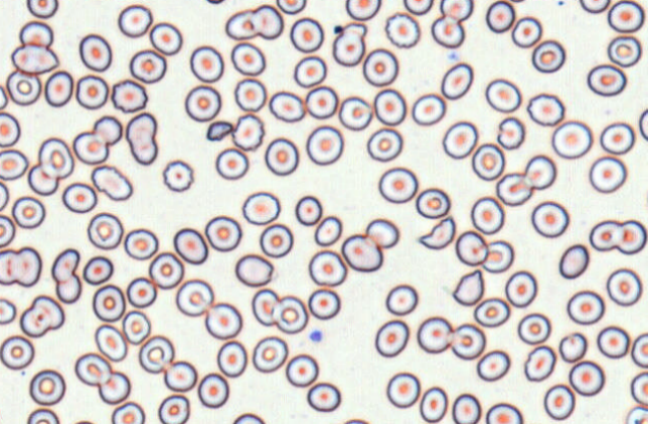PLT: (309, 329, 323, 344), (332, 24, 344, 34)
RBC: (19, 294, 64, 337), (125, 112, 158, 165), (1, 246, 42, 287), (341, 233, 382, 272), (551, 120, 592, 159), (37, 136, 74, 179), (90, 164, 132, 201), (305, 125, 343, 165), (11, 43, 58, 75), (332, 22, 366, 66), (175, 278, 214, 316), (588, 155, 627, 193), (378, 166, 418, 203), (531, 200, 569, 238), (271, 295, 308, 334), (308, 249, 347, 286), (204, 302, 242, 339), (184, 84, 221, 122), (251, 335, 288, 373), (138, 334, 174, 373), (606, 267, 642, 306), (362, 47, 398, 86), (442, 120, 478, 159), (416, 316, 453, 353), (28, 368, 65, 405), (86, 212, 123, 249), (148, 251, 184, 289), (566, 289, 604, 325), (204, 215, 242, 251), (264, 136, 299, 175), (234, 253, 274, 287), (568, 360, 605, 396), (384, 11, 420, 48), (374, 319, 409, 357), (241, 191, 280, 225), (78, 33, 112, 72), (586, 63, 626, 96), (485, 77, 521, 113), (72, 130, 109, 165), (450, 322, 485, 359), (110, 78, 147, 113), (173, 227, 208, 264), (129, 48, 166, 83), (189, 45, 224, 82), (366, 127, 403, 162), (74, 352, 112, 386), (495, 172, 533, 206), (470, 196, 504, 234), (471, 142, 505, 180), (526, 92, 564, 126), (92, 283, 125, 322), (6, 69, 41, 105), (386, 371, 420, 408), (94, 323, 127, 361), (231, 113, 264, 151), (440, 62, 473, 100), (373, 88, 406, 126), (289, 17, 324, 52), (599, 121, 635, 155), (523, 345, 556, 382), (504, 270, 537, 307), (230, 42, 265, 76), (117, 3, 152, 37), (411, 92, 446, 126), (259, 223, 293, 258), (338, 95, 372, 130), (523, 154, 556, 190), (455, 230, 488, 266), (1, 334, 34, 370), (543, 383, 575, 420), (268, 90, 305, 122), (607, 1, 644, 33), (285, 353, 319, 387), (531, 39, 565, 73), (75, 74, 108, 109), (123, 227, 158, 260), (61, 181, 97, 213), (197, 372, 229, 408), (216, 340, 247, 377), (97, 370, 130, 404), (163, 359, 197, 392), (517, 312, 551, 345), (431, 14, 464, 48), (11, 195, 45, 228), (293, 55, 327, 88), (149, 21, 182, 55), (305, 85, 338, 119), (215, 147, 249, 180), (233, 78, 266, 112), (251, 4, 283, 39), (415, 187, 450, 219), (558, 243, 589, 279), (473, 297, 510, 327), (596, 325, 629, 358), (482, 239, 514, 273), (476, 349, 510, 381), (607, 35, 641, 67), (616, 219, 647, 254), (306, 381, 341, 412), (121, 309, 151, 345), (44, 70, 73, 107), (251, 288, 279, 326), (589, 219, 622, 251), (385, 283, 418, 315), (162, 159, 194, 192), (307, 288, 340, 320), (365, 217, 399, 248), (419, 386, 448, 422), (225, 9, 258, 40), (27, 163, 58, 195), (126, 276, 157, 308), (511, 16, 542, 48), (51, 248, 80, 282), (485, 1, 515, 33), (157, 394, 190, 423), (19, 20, 53, 48), (92, 115, 122, 146), (82, 255, 113, 285), (451, 393, 481, 423), (558, 331, 587, 362), (314, 215, 342, 246), (1, 148, 28, 180), (294, 195, 322, 225), (55, 273, 81, 303), (485, 402, 522, 423), (111, 401, 145, 423), (1, 111, 20, 147), (345, 1, 381, 20), (439, 1, 473, 21), (630, 371, 647, 405), (631, 332, 647, 368), (26, 407, 60, 423), (26, 1, 58, 18), (1, 214, 15, 247), (1, 296, 16, 325), (403, 1, 433, 15), (625, 405, 647, 423), (276, 1, 306, 14), (578, 1, 610, 13), (232, 412, 265, 423), (638, 107, 648, 141), (1, 180, 9, 211), (1, 84, 8, 110), (342, 417, 370, 423), (70, 419, 97, 424), (645, 186, 648, 214), (204, 1, 226, 4), (507, 1, 528, 3)
Schistocyte: (416, 216, 455, 251), (451, 269, 484, 306), (496, 117, 526, 150), (205, 120, 236, 141)
